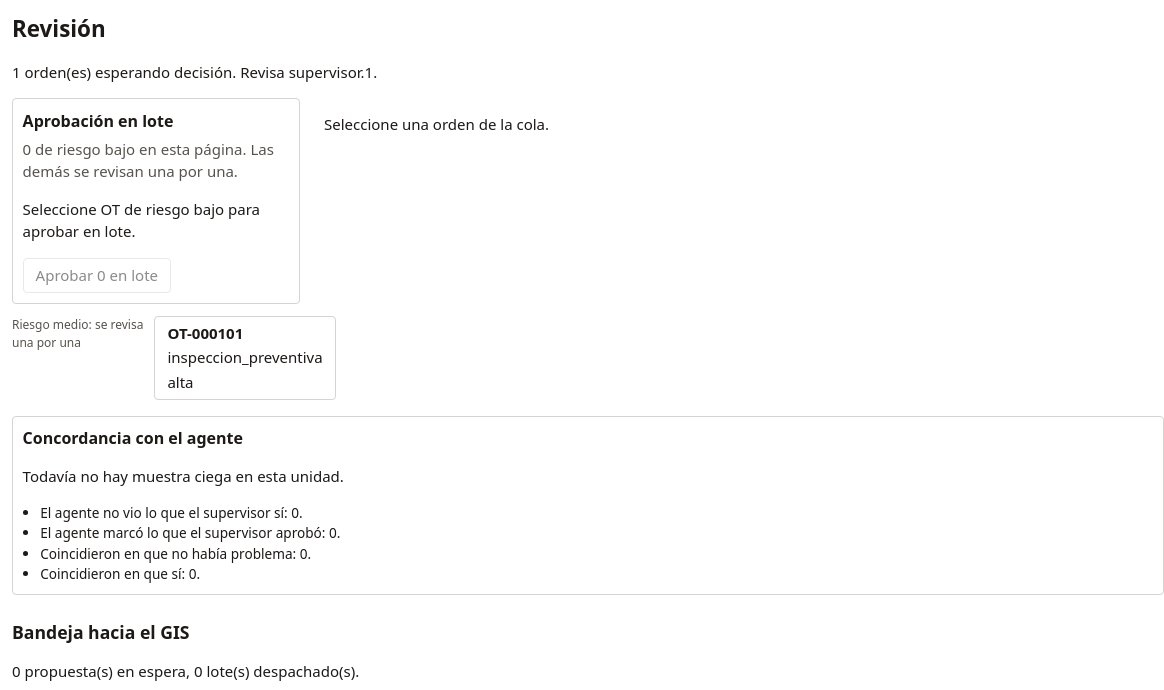
Test case: los hallazgos normativos › un límite verificado se cita con norma y numeral
The image size is (1164, 690).
Click the button "OT-000101 inspeccion_preventiva alta": (245,358) [154, 316, 336, 400]
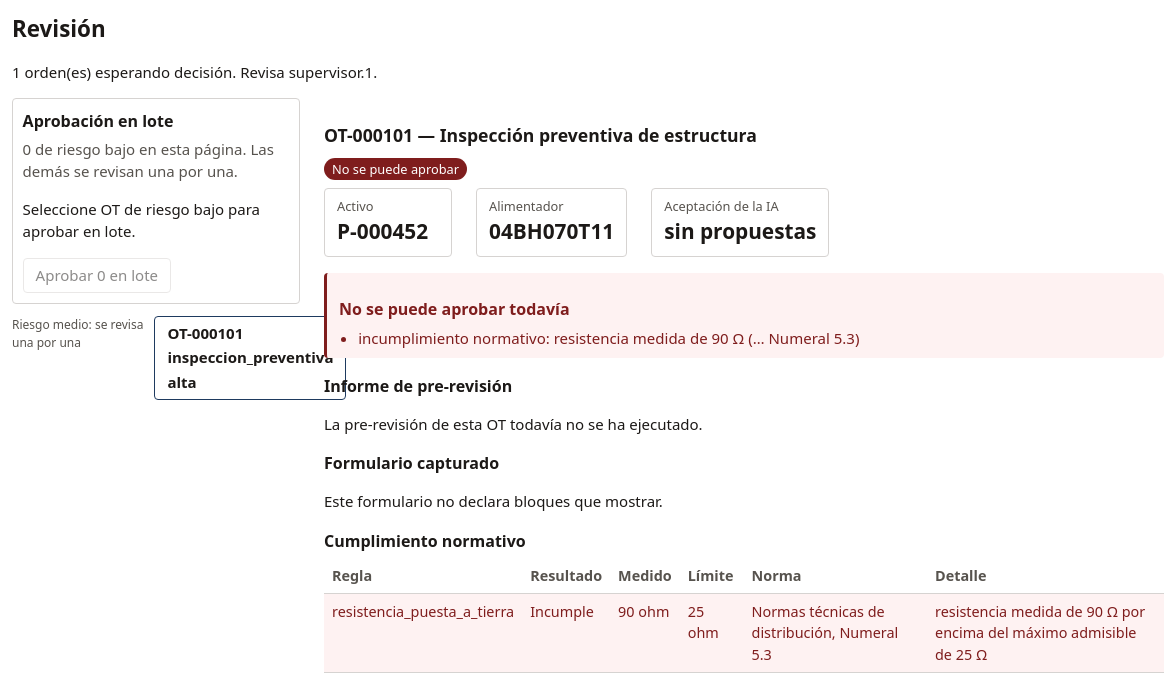
Check: the text "Normas técnicas de distribución, Numeral 5.3" is shown, box [744, 594, 927, 672]
